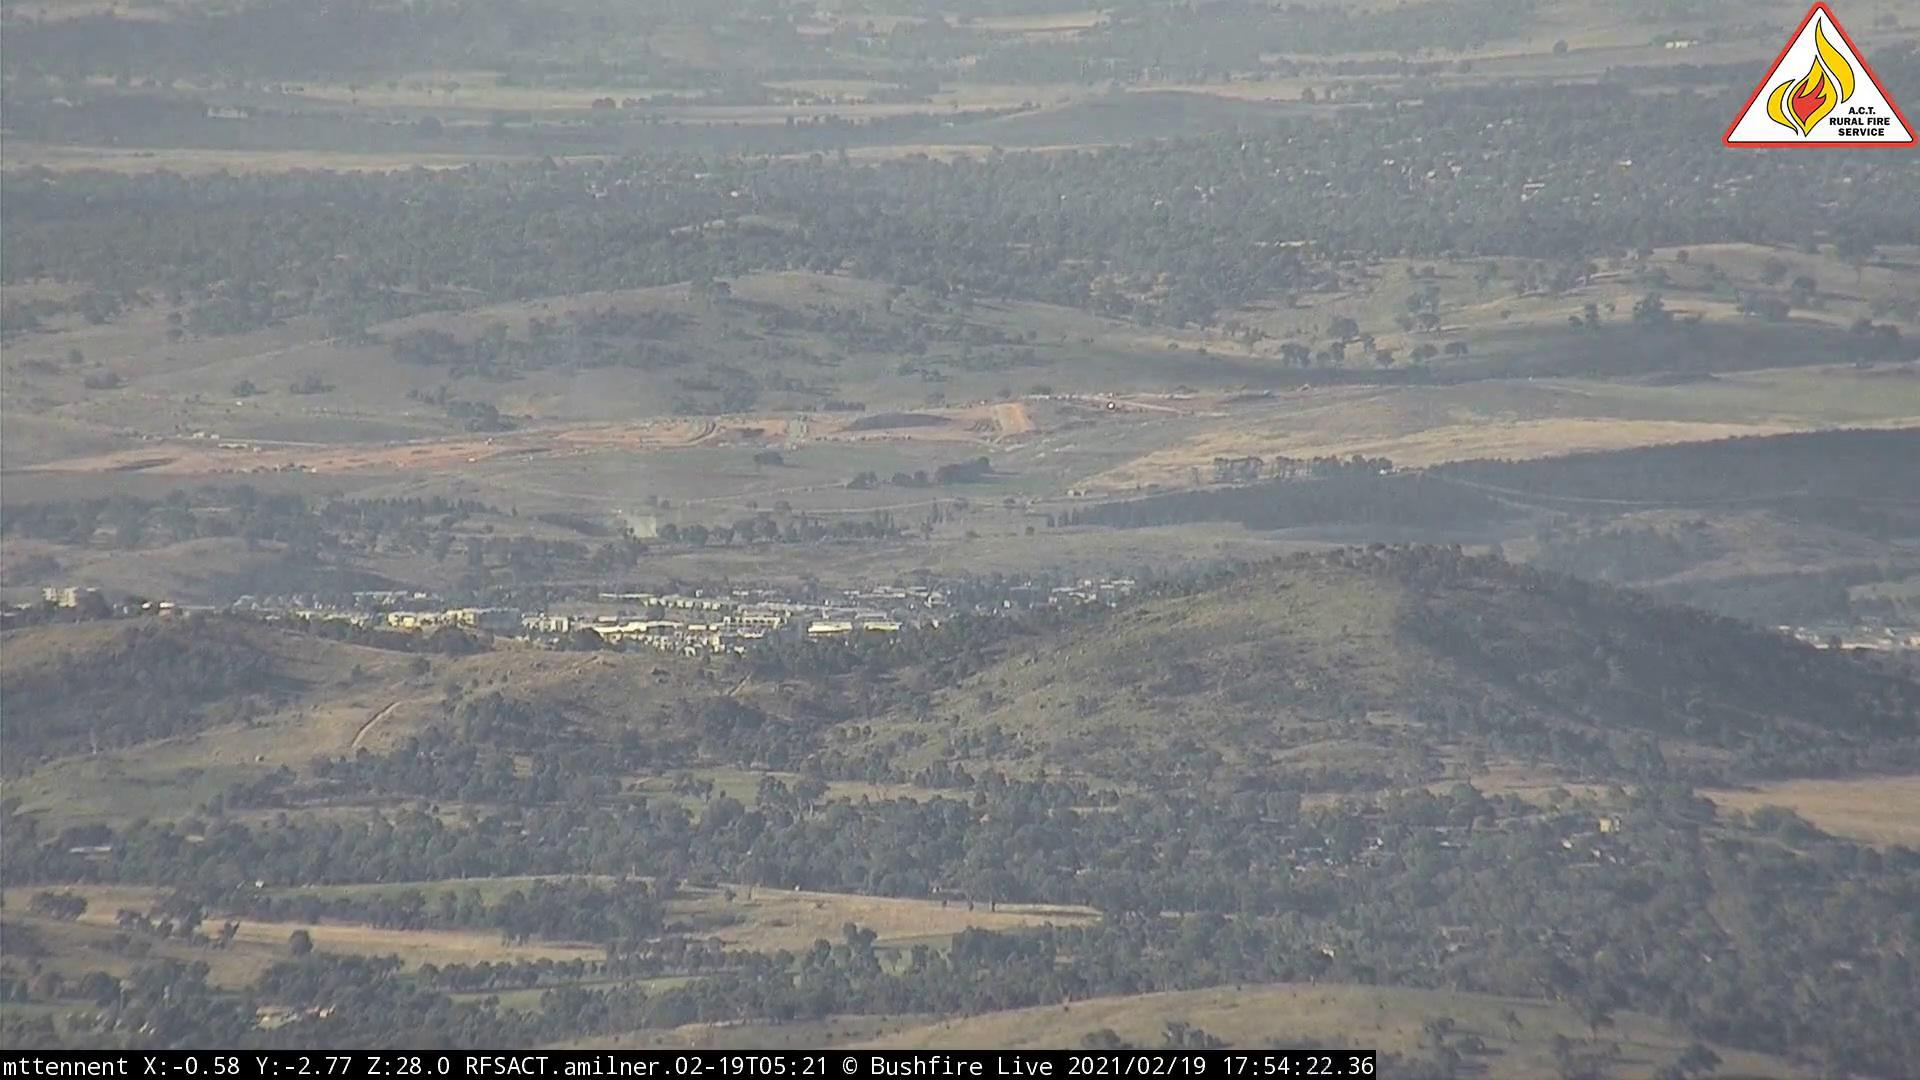instance_salient_object: (597, 469, 680, 545)
